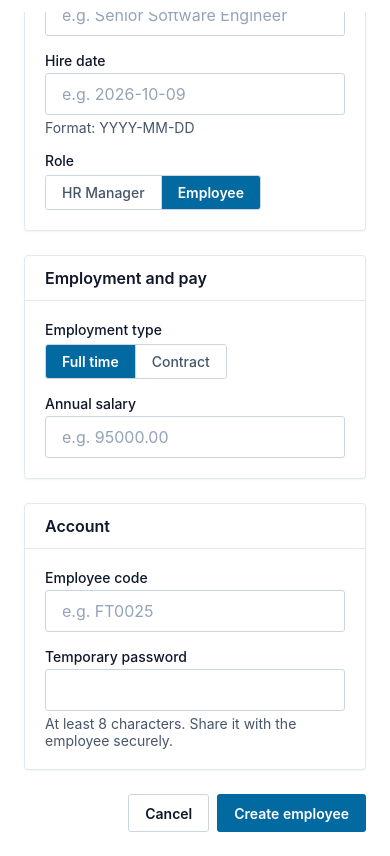
Test case: EmployeeForm when creating › clears a field error as soon as the field is edited
(page scrolled)
Click the button "Create employee" at (292, 813), box [217,794,366,832]
(page scrolled)
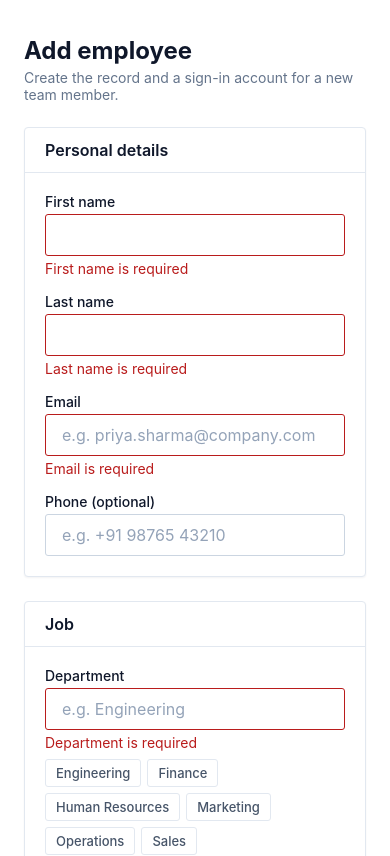
Type "Zara" into the field named "First name" at (195, 235), box [45,214,345,256]
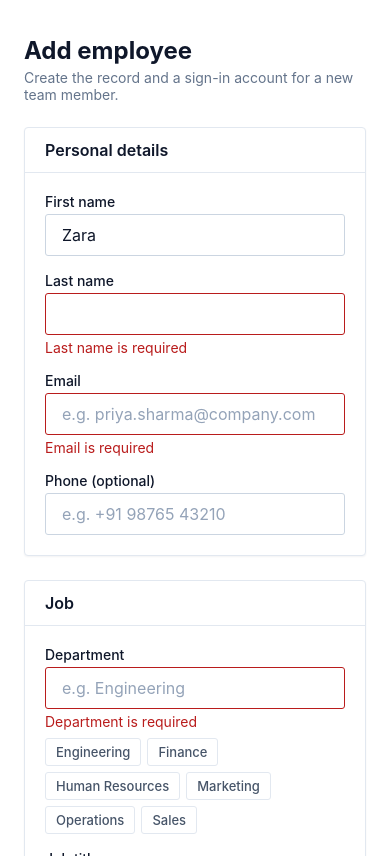
Expected: the text "First name is required" is gone
